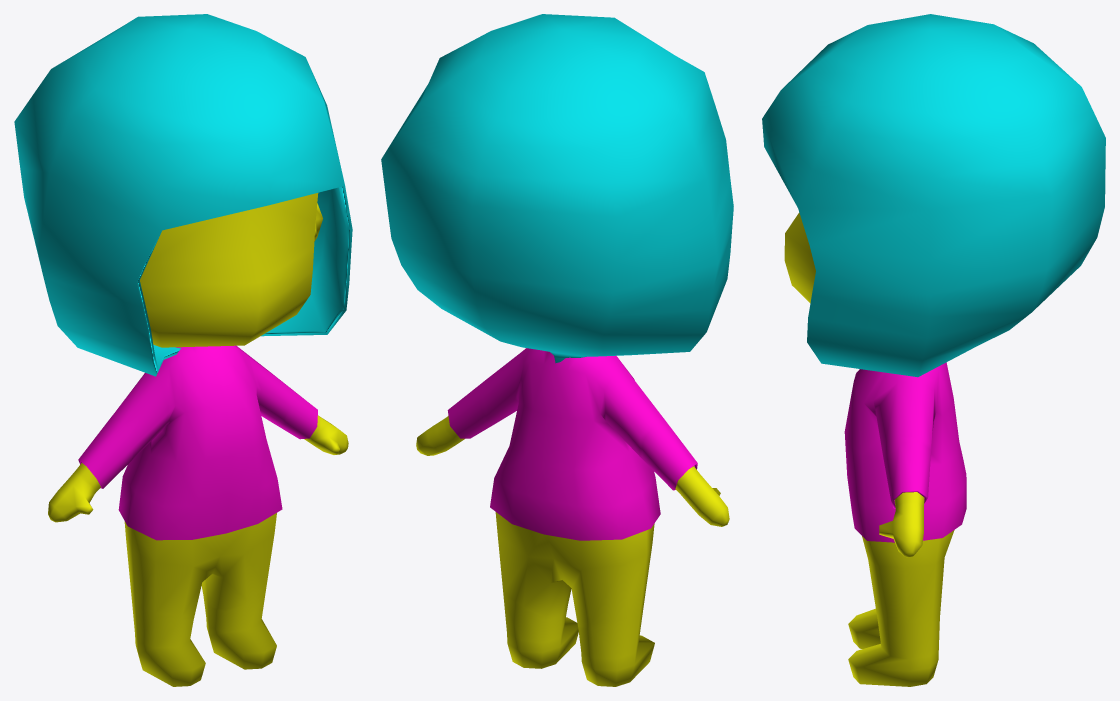
Rendered from Chibi_model_notexture.fbx.
3 renders of one model, left to right at view 1: azimuth 30°, elevation 25°; view 2: azimuth 150°, elevation 25°; view 3: azimuth 270°, elevation 25°, orthographic. The views are drawn at different scales.
Parts seen in each view (by area): view 1: cap, Chibi_base.002, top1; view 2: cap, top1, Chibi_base.002; view 3: cap, top1, Chibi_base.002.
Part boxes in pixels (bbox=[...]): cap: bbox=[14, 14, 352, 376]; Chibi_base.002: bbox=[48, 193, 348, 686]; top1: bbox=[78, 345, 317, 540]; cap: bbox=[381, 14, 733, 363]; top1: bbox=[447, 348, 697, 540]; Chibi_base.002: bbox=[416, 416, 729, 686]; cap: bbox=[762, 14, 1105, 377]; top1: bbox=[844, 362, 966, 542]; Chibi_base.002: bbox=[784, 212, 954, 686].
Bounding box in the file's own units: 169 × 335 × 165.
